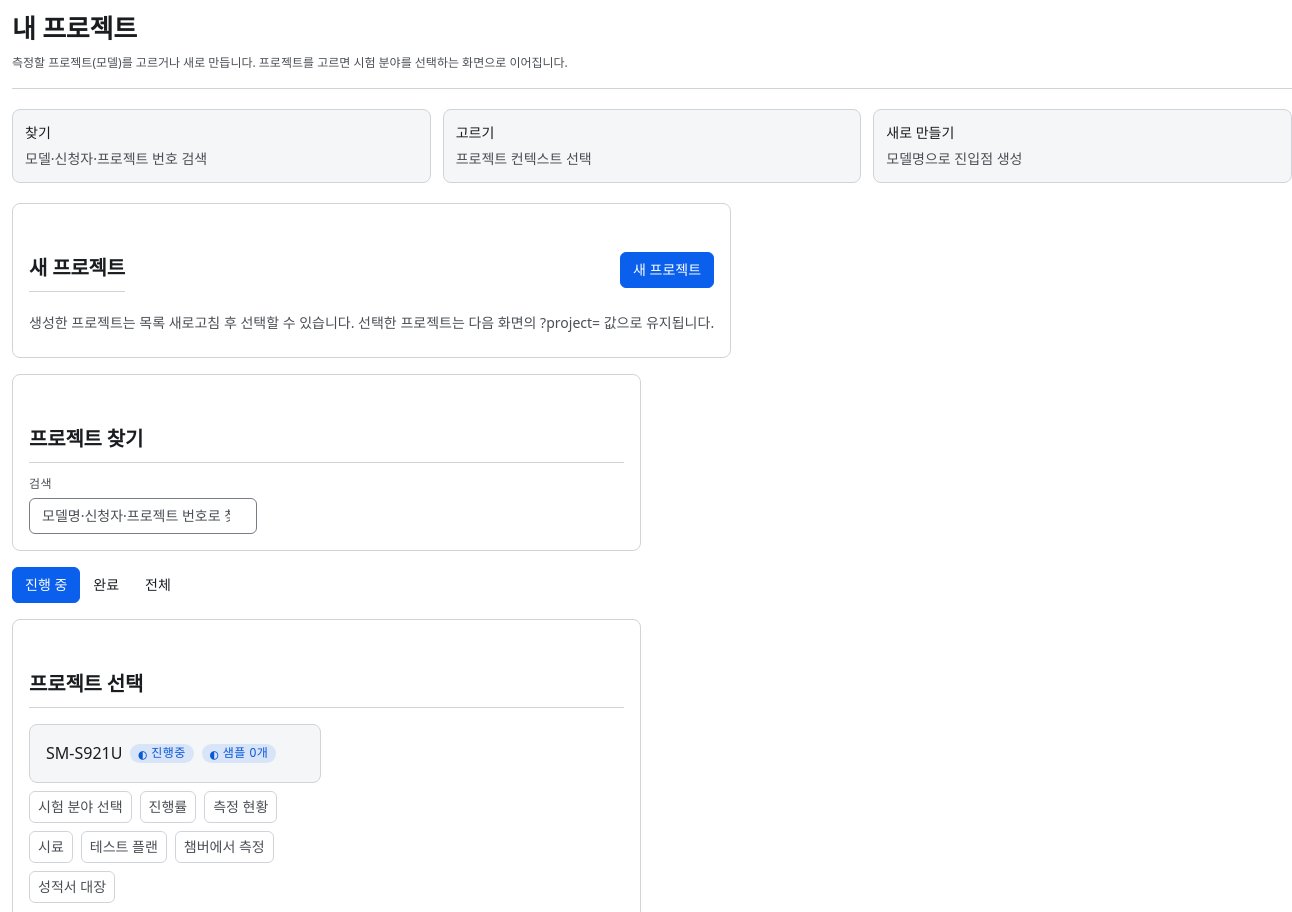
Test: MyProjectsRoute 서버측 검색 + keyset (W3-B M-B) › S9 — "no results" claims exactly the scope the request actually had (status-filtered central search)
Expected: the list item with test id "project-card" is shown, [29, 724, 321, 903]
Step 1. Type "nope" into the search field with test id "project-search" → x=143, y=516, box [29, 498, 257, 534]
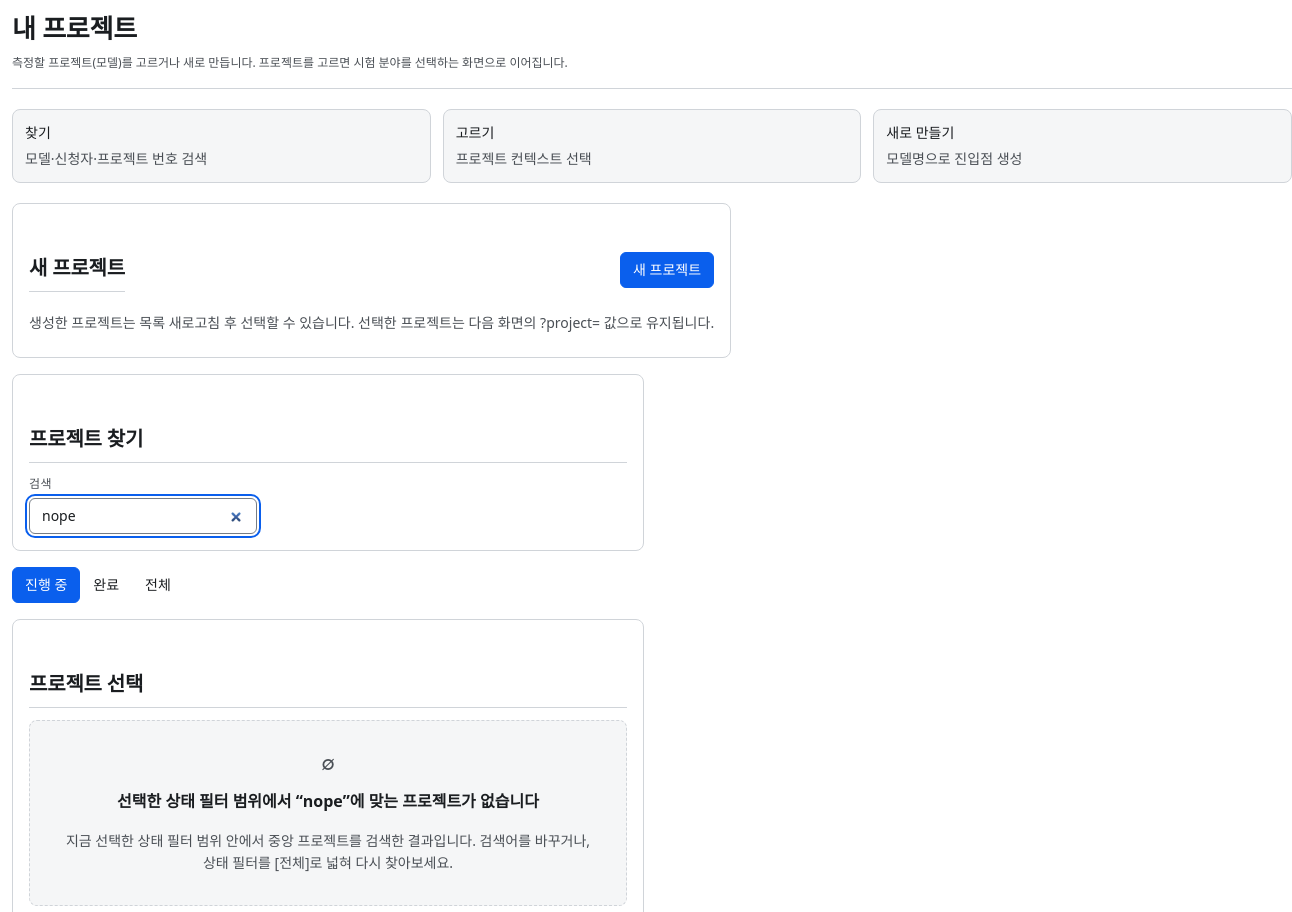
Result: the message with test id "projects-empty" shows "nope" at [117, 790, 539, 812]
Result: the message with test id "projects-empty" shows "상태 필터 범위 안에서 중앙 프로젝트를 검색한 결과" at [66, 831, 590, 872]
Result: the message with test id "projects-empty" shows "[전체]" at [66, 831, 590, 872]
